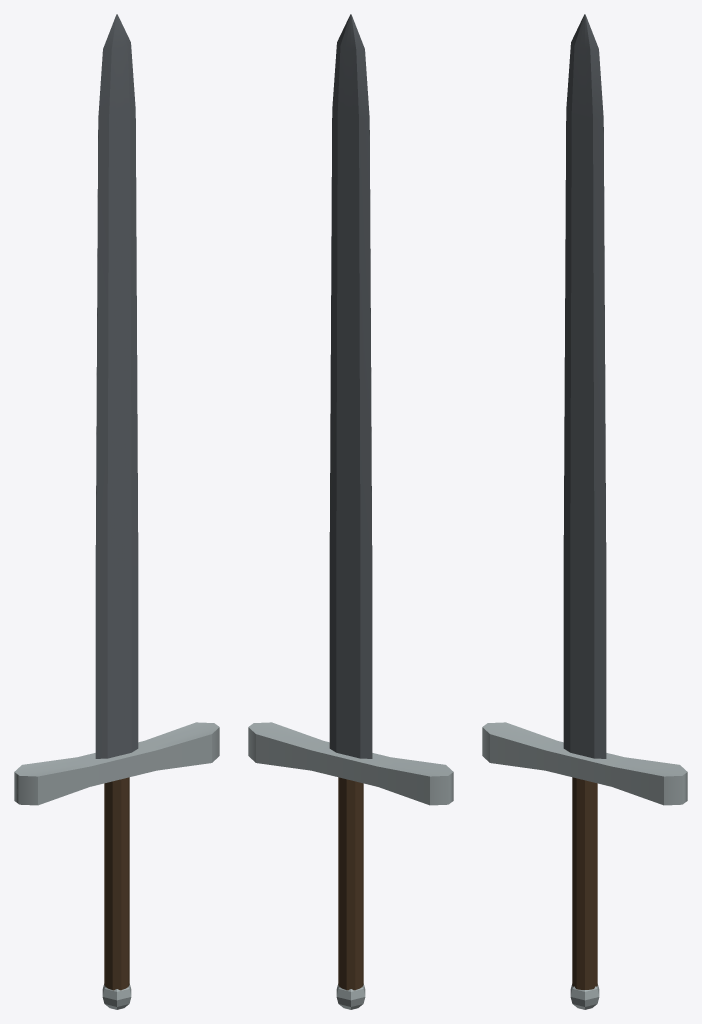
3 views of the same model, side by side, from view 1: azimuth 30°, elevation 25°; view 2: azimuth 150°, elevation 25°; view 3: azimuth 330°, elevation 25° (orthographic).
Visible parts, largest first — view 1: SM_Great_Sword_01_LOD0; view 2: SM_Great_Sword_01_LOD0; view 3: SM_Great_Sword_01_LOD0.
Part boxes in pixels (left/top/right/bottom): SM_Great_Sword_01_LOD0: left=14, top=14, right=219, bottom=1009; SM_Great_Sword_01_LOD0: left=248, top=14, right=453, bottom=1009; SM_Great_Sword_01_LOD0: left=482, top=14, right=687, bottom=1009.
Size of the model in its own units: 0.4179 by 1.98 by 0.0577.
